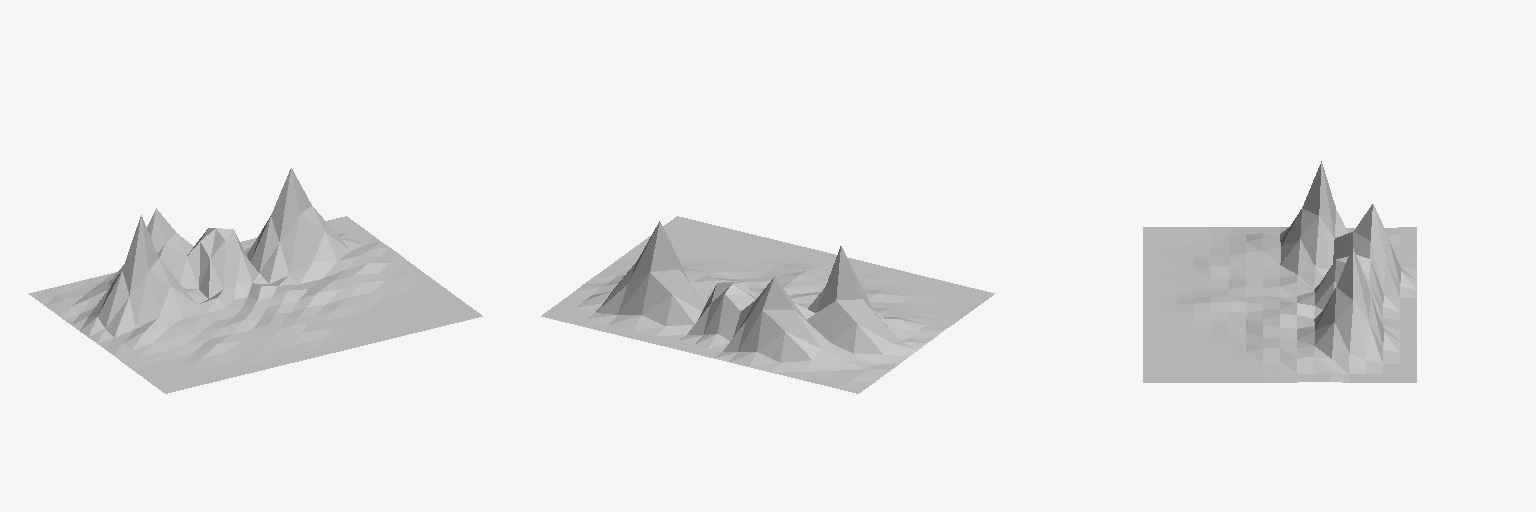
File: mountains.obj
3 renders of one model, left to right at view 1: azimuth 30°, elevation 25°; view 2: azimuth 150°, elevation 25°; view 3: azimuth 270°, elevation 25°, orthographic.
Parts seen in each view (by area): view 1: Sahne_Plane; view 2: Sahne_Plane; view 3: Sahne_Plane.
Part boxes in pixels (left/top/right/bottom): Sahne_Plane: left=29, top=168, right=482, bottom=393; Sahne_Plane: left=541, top=216, right=994, bottom=393; Sahne_Plane: left=1143, top=161, right=1416, bottom=382.
Size of the model in its own units: 21.26 by 6.3 by 15.86.